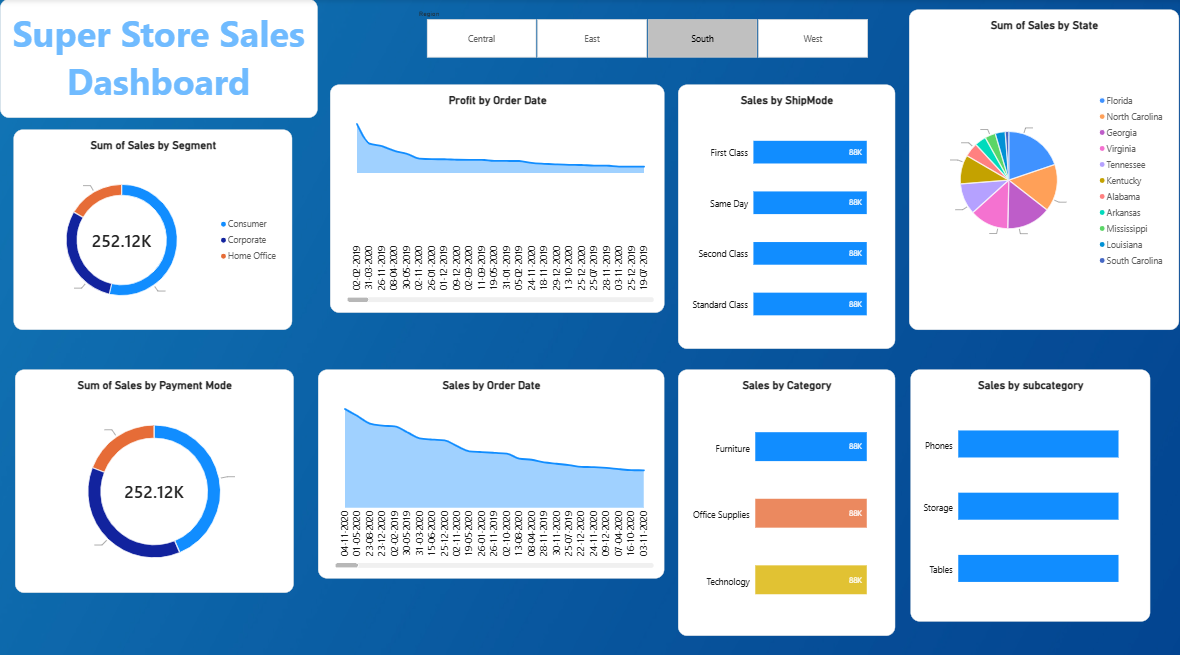

The dashboard page shown, as its layout file describes it:
{"tool":"powerbi","page":{"name":"Page 1","canvas":[1920,1080],"ordinal":0},"visuals":[{"type":"clusteredBarChart","title":"Sales by Category","fields":{"Category":["SuperStore_Sales_Dataset (2).Category"],"Y":["Sum(SuperStore_Sales_Dataset.Sales)"]},"box":[1103.3,603.3,353.3,433.3],"z":0},{"type":"clusteredBarChart","title":"Sales by subcategory","fields":{"Category":["SuperStore_Sales_Dataset (2).Sub-Category"],"Y":["Sum(SuperStore_Sales_Dataset.Sales)"]},"box":[1480,603.3,390,410],"z":1},{"type":"clusteredBarChart","title":"Sales by ShipMode","fields":{"Category":["SuperStore_Sales_Dataset (2).Ship Mode"],"Y":["Sum(SuperStore_Sales_Dataset.Sales)"]},"box":[1103.3,140,353.3,430],"z":2},{"type":"stackedAreaChart","title":"Sales by Order Date","fields":{"Category":["SuperStore_Sales_Dataset (2).Order Date"],"Y":["Sum(SuperStore_Sales_Dataset (2).Sales)"]},"box":[516.7,603.3,563.3,340],"z":3},{"type":"stackedAreaChart","title":"Profit by Order Date","fields":{"Category":["SuperStore_Sales_Dataset (2).Order Date"],"Y":["Sum(SuperStore_Sales_Dataset (2).Profit)"]},"box":[535.8,138.9,544.3,371.3],"z":4},{"type":"pieChart","fields":{"Category":["SuperStore_Sales_Dataset (2).State"],"Y":["Sum(SuperStore_Sales_Dataset (2).Sales)"]},"box":[1479.7,17,439.4,521.6],"z":5},{"type":"donutChart","fields":{"Category":["SuperStore_Sales_Dataset (2).Segment"],"Y":["Sum(SuperStore_Sales_Dataset (2).Sales)"]},"box":[22.7,212.6,453.5,326],"z":6},{"type":"donutChart","fields":{"Category":["SuperStore_Sales_Dataset (2).Payment Mode"],"Y":["Sum(SuperStore_Sales_Dataset (2).Sales)"]},"box":[23.3,603.3,453.3,363.3],"z":7},{"type":"slicer","fields":{"Values":["SuperStore_Sales_Dataset (2).Region"]},"box":[673.3,16.7,756.7,80],"z":8},{"type":"textbox","box":[0,0,516.7,193.3],"z":9}]}

Visuals, with their boxes in screenshot pixels (x1, y1, x2, y2), scaled from the page's 1920x1080 canvas onto the 1180x655 screenshot:
"Sales by Category" clusteredBarChart: region(678, 366, 895, 629)
"Sales by subcategory" clusteredBarChart: region(910, 366, 1149, 615)
"Sales by ShipMode" clusteredBarChart: region(678, 85, 895, 346)
"Sales by Order Date" stackedAreaChart: region(318, 366, 664, 572)
"Profit by Order Date" stackedAreaChart: region(329, 84, 664, 309)
pieChart - SuperStore_Sales_Dataset (2).State x Sum(SuperStore_Sales_Dataset (2).Sales): region(909, 10, 1179, 327)
donutChart - SuperStore_Sales_Dataset (2).Segment x Sum(SuperStore_Sales_Dataset (2).Sales): region(14, 129, 293, 327)
donutChart - SuperStore_Sales_Dataset (2).Payment Mode x Sum(SuperStore_Sales_Dataset (2).Sales): region(14, 366, 293, 586)
slicer - SuperStore_Sales_Dataset (2).Region: region(414, 10, 879, 59)
textbox: region(0, 0, 318, 117)
